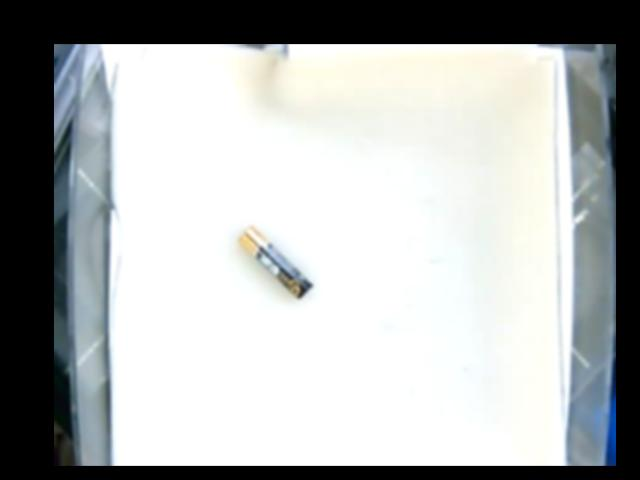Battery: (240, 226, 318, 298)
